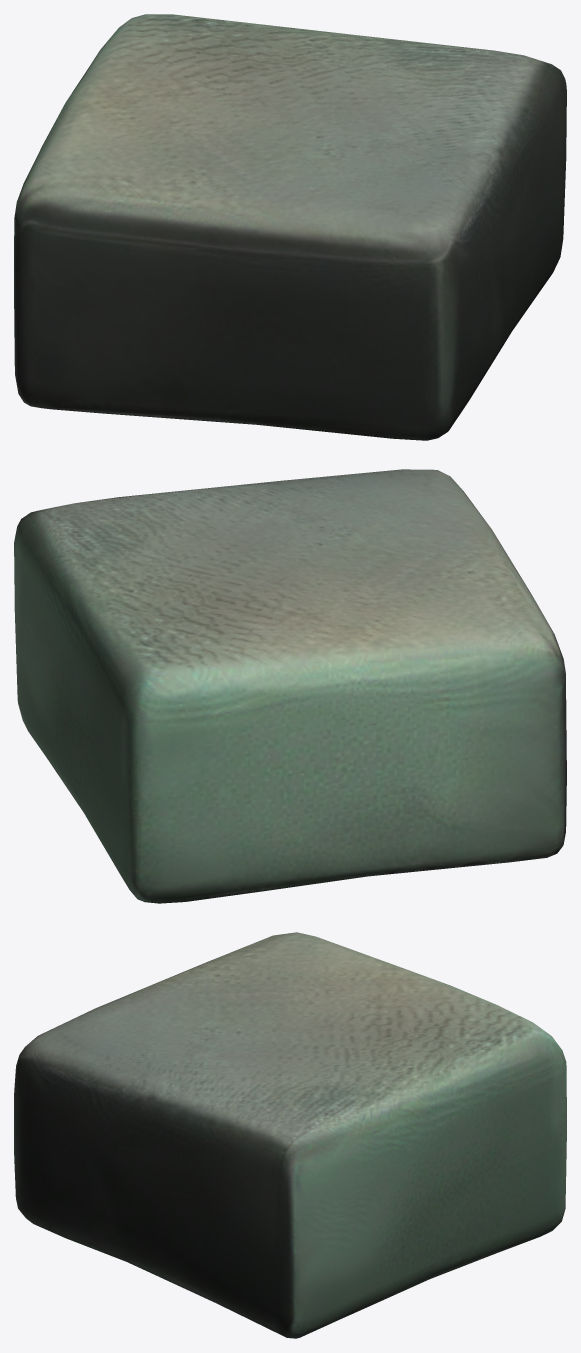
Rendered from cuboidsofa.obj.
The picture shows the model from 3 angles, top to bottom: view 1: azimuth 30°, elevation 25°; view 2: azimuth 150°, elevation 25°; view 3: azimuth 270°, elevation 25°; orthographic projection. The views are drawn at different scales.
Parts seen in each view (by area): view 1: geometry_0; view 2: geometry_0; view 3: geometry_0.
Part boxes in pixels (bbox=[...]): geometry_0: bbox=[14, 14, 566, 440]; geometry_0: bbox=[14, 469, 566, 903]; geometry_0: bbox=[14, 932, 566, 1338].
Size of the model in its own units: 1.91 by 0.7922 by 1.89.
1 material, 1 textured.
